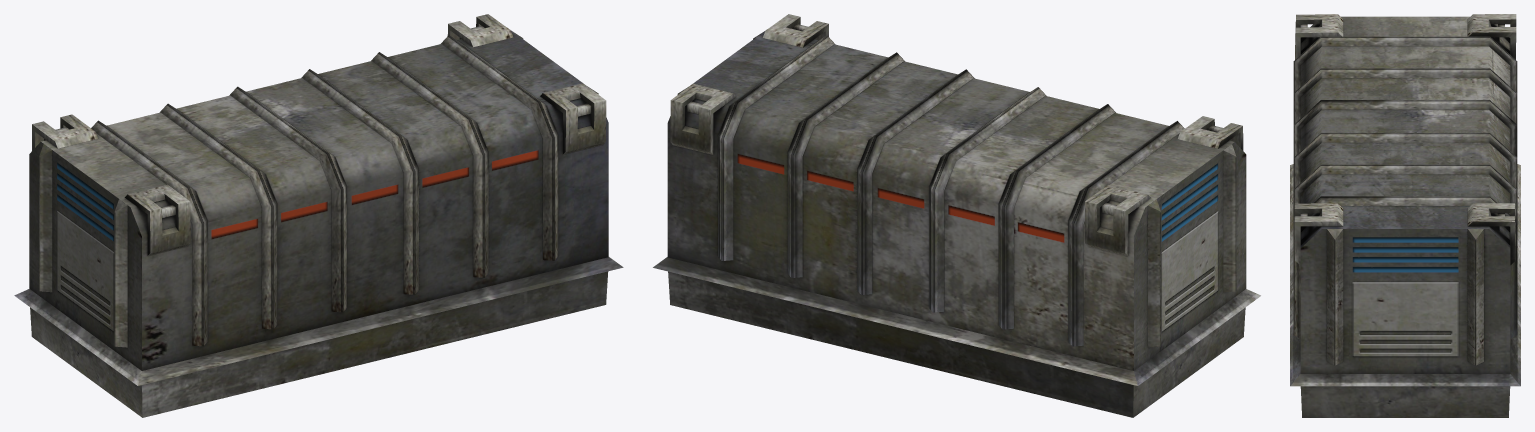
Rendered from CrateLarge.fbx.
3 renders of one model, left to right at view 1: azimuth 30°, elevation 25°; view 2: azimuth 150°, elevation 25°; view 3: azimuth 270°, elevation 25°, orthographic. The views are drawn at different scales.
Parts seen in each view (by area): view 1: polySurface3560; view 2: polySurface3560; view 3: polySurface3560.
Part boxes in pixels (<box>): polySurface3560: <box>14,14,623,417</box>; polySurface3560: <box>653,14,1260,417</box>; polySurface3560: <box>1290,14,1520,417</box>.
Bounding box in the file's own units: 14.67 × 6.06 × 6.47.
